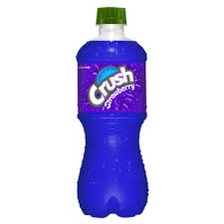bottle: (74, 3, 152, 217)
